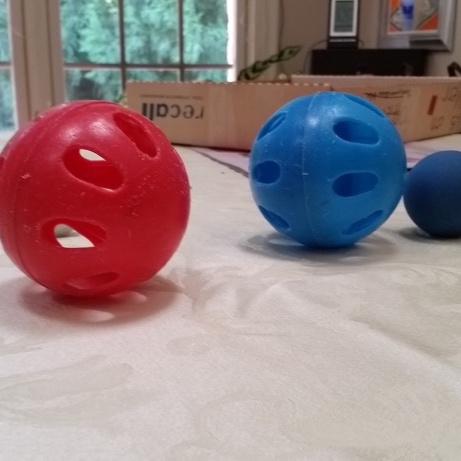ball: (0, 96, 192, 300), (246, 86, 416, 250)
